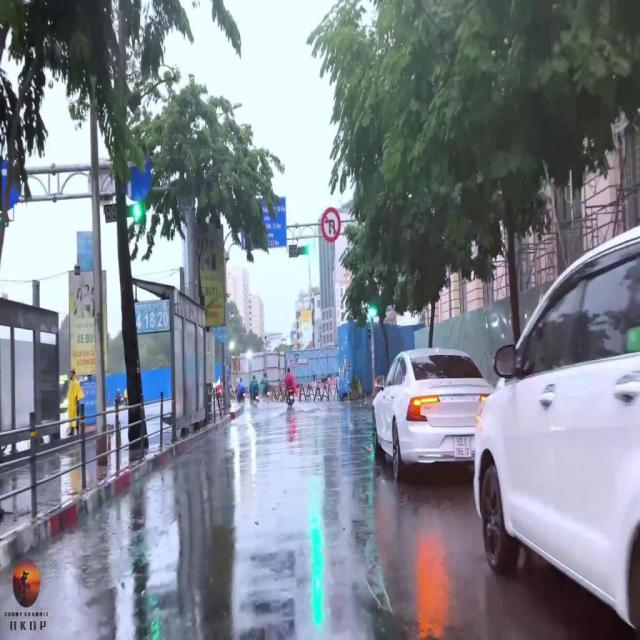khac: (321, 206, 340, 240)
